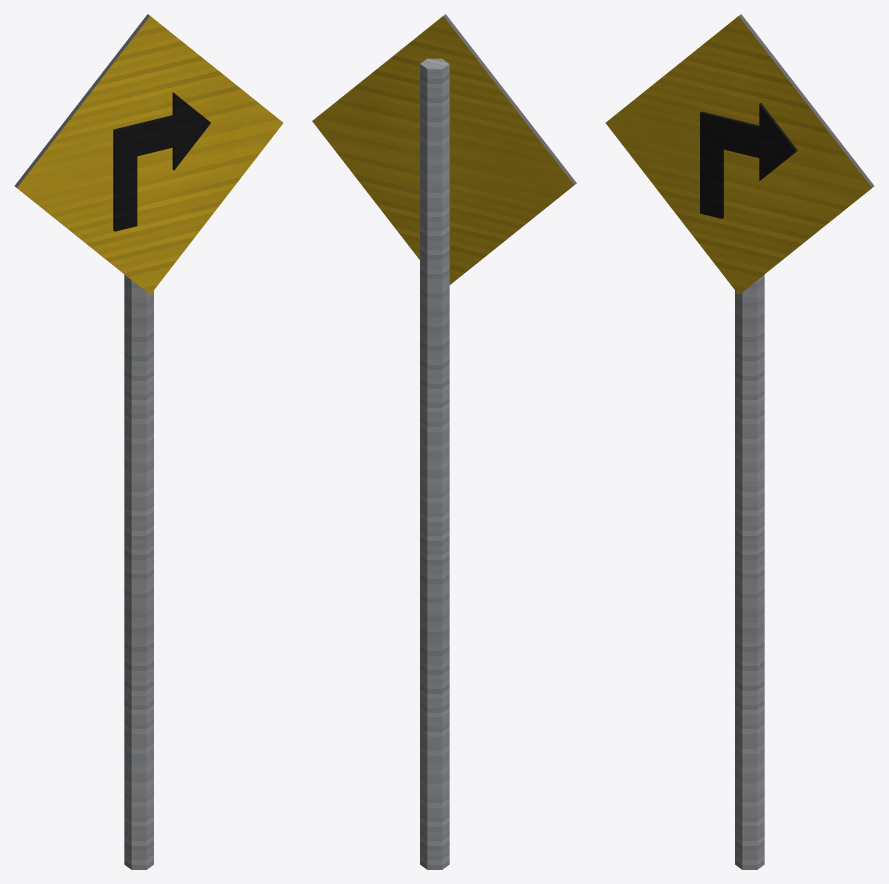
Rendered from placa_curva_perigosa.glb.
3 views of the same model, side by side, from view 1: azimuth 30°, elevation 25°; view 2: azimuth 150°, elevation 25°; view 3: azimuth 330°, elevation 25° (orthographic).
Visible parts, largest first — view 1: Inteiro; view 2: Inteiro; view 3: Inteiro.
Boxes of the visible parts, x1,y1,x2,y2 form: Inteiro: (14,14,283,869); Inteiro: (312,14,576,869); Inteiro: (605,14,874,869).
Size of the model in its own units: 0.72 by 2.21 by 0.095.
1 material, 1 textured.
